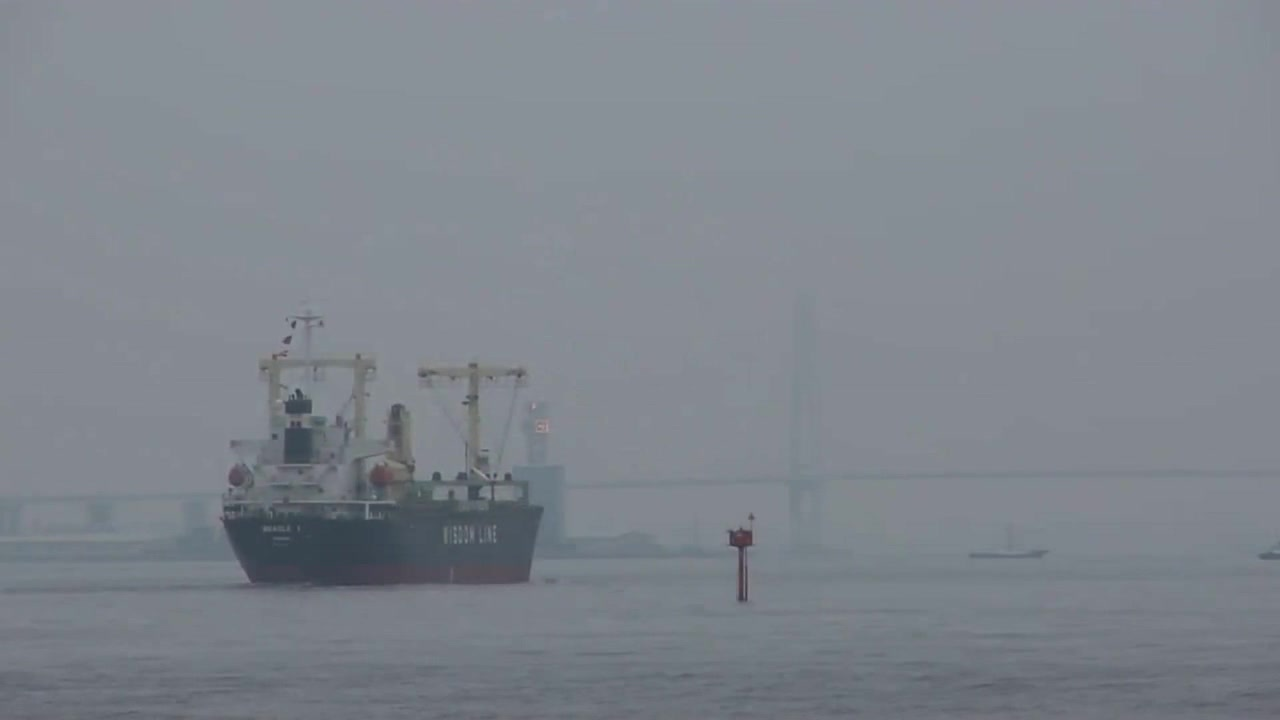boat: (217, 292, 549, 588)
